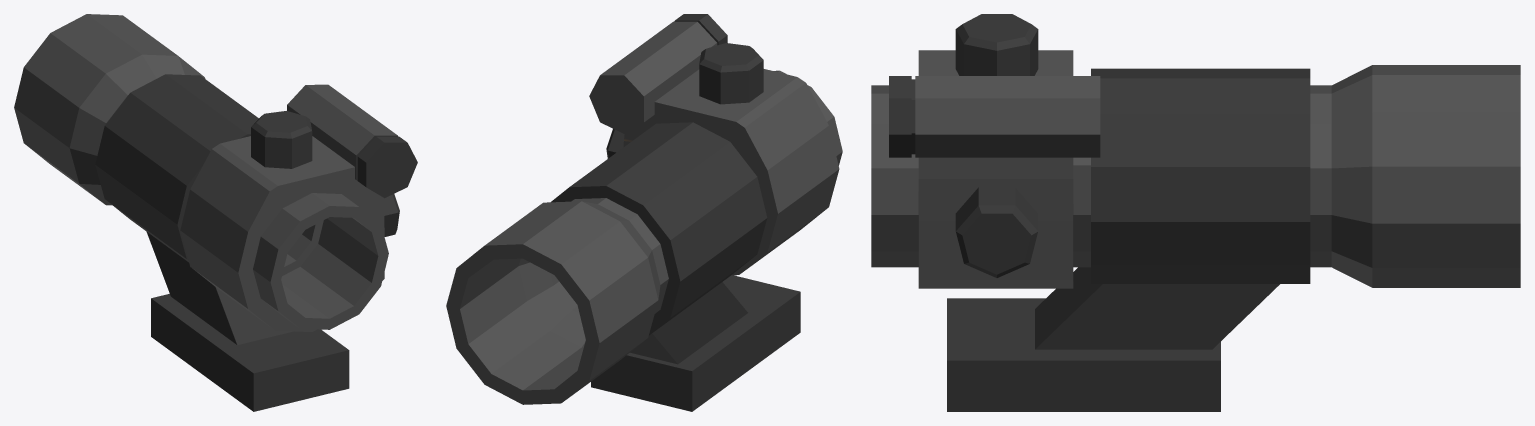
The model's file is Red_Dot_x1.fbx.
3 renders of one model, left to right at view 1: azimuth 30°, elevation 25°; view 2: azimuth 150°, elevation 25°; view 3: azimuth 270°, elevation 25°, orthographic. The views are drawn at different scales.
Parts seen in each view (by area): view 1: Red_Dot_x1; view 2: Red_Dot_x1; view 3: Red_Dot_x1.
Part boxes in pixels (bbox=[...]): Red_Dot_x1: bbox=[14, 14, 417, 411]; Red_Dot_x1: bbox=[446, 14, 842, 411]; Red_Dot_x1: bbox=[871, 14, 1520, 411].
Size of the model in its own units: 4.76 by 6.77 by 11.27.
Materials: 1 (1 with a texture image).
